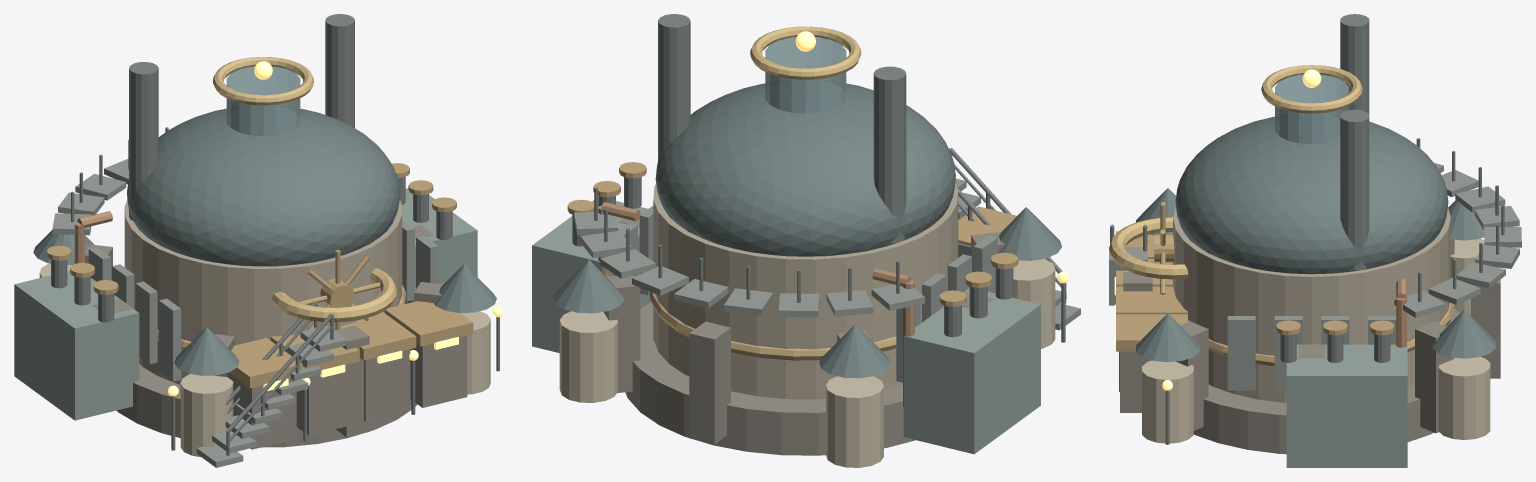
The model's file is model-core.glb.
The picture shows the model from 3 angles, left to right: view 1: azimuth 30°, elevation 25°; view 2: azimuth 150°, elevation 25°; view 3: azimuth 270°, elevation 25°; orthographic projection. The views are drawn at different scales.
Visible parts, largest first — view 1: core_dome, core_hall, cooling_house_-1, core_crown, core_base, stack_-1, core_turret_1, gate_tunnel_3, stack_1, gate_tunnel_1, gate_tunnel_2, cooling_house_1 (+28 smaller); view 2: core_dome, core_hall, cooling_house_-1, core_base, core_turret_0, core_turret_3, cooling_house_1, stack_-1, core_buttress_4.71, core_crown, stack_1, core_crown_ring (+23 smaller); view 3: core_dome, core_hall, cooling_house_1, core_base, core_turret_3, stack_1, core_turret_2, core_crown, core_buttress_5.50, stack_-1, core_crown_ring, fin_1_0.9 (+27 smaller).
Boxes of the visible parts, x1,y1,x2,y2 form: core_dome: (127, 108, 399, 266); core_hall: (124, 200, 402, 384); cooling_house_-1: (14, 271, 139, 420); core_crown: (226, 66, 300, 136); core_base: (116, 364, 417, 447); stack_-1: (129, 62, 158, 220); core_turret_1: (180, 374, 233, 456); gate_tunnel_3: (410, 335, 467, 407); stack_1: (325, 14, 354, 127); gate_tunnel_1: (296, 363, 353, 435); gate_tunnel_2: (364, 349, 410, 421); cooling_house_1: (401, 188, 477, 303); core_dome: (655, 83, 955, 256); core_hall: (653, 183, 958, 399); cooling_house_-1: (903, 288, 1040, 454); core_base: (625, 302, 915, 455); core_turret_0: (826, 376, 883, 467); core_turret_3: (559, 311, 617, 402); cooling_house_1: (532, 197, 650, 352); stack_-1: (873, 66, 906, 243); core_buttress_4.71: (689, 321, 730, 444); core_crown: (765, 37, 846, 113); stack_1: (658, 14, 690, 160); core_crown_ring: (750, 26, 861, 79); core_dome: (1175, 116, 1448, 274); core_hall: (1173, 207, 1450, 402); cooling_house_1: (1286, 344, 1407, 467); core_base: (1193, 308, 1460, 454); core_turret_3: (1438, 356, 1490, 439); stack_1: (1340, 109, 1369, 270); core_turret_2: (1142, 360, 1193, 443); core_crown: (1275, 74, 1348, 144); core_buttress_5.50: (1415, 321, 1454, 433); stack_-1: (1340, 14, 1369, 113); core_crown_ring: (1261, 65, 1362, 113); fin_1_0.9: (1227, 316, 1255, 390).
Bounding box in the file's own units: 5.95 × 4.47 × 5.29.
